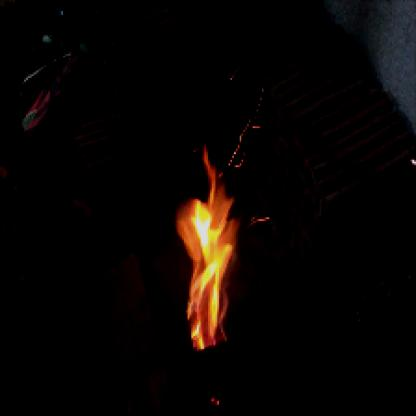Fire: (169, 139, 247, 349)
